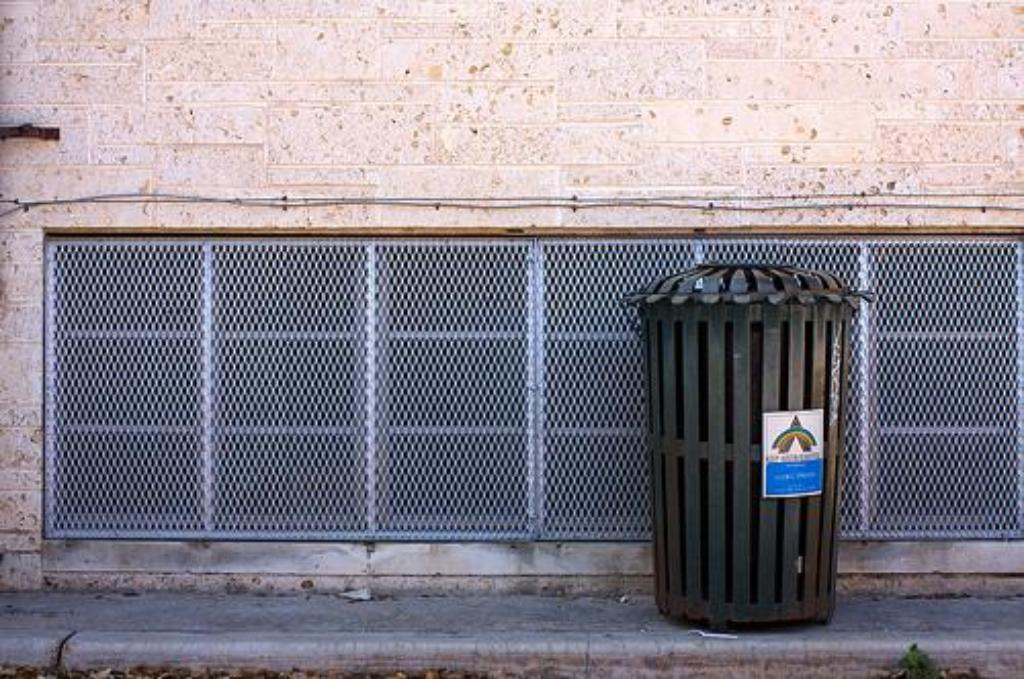dustbin: (620, 257, 876, 642)
